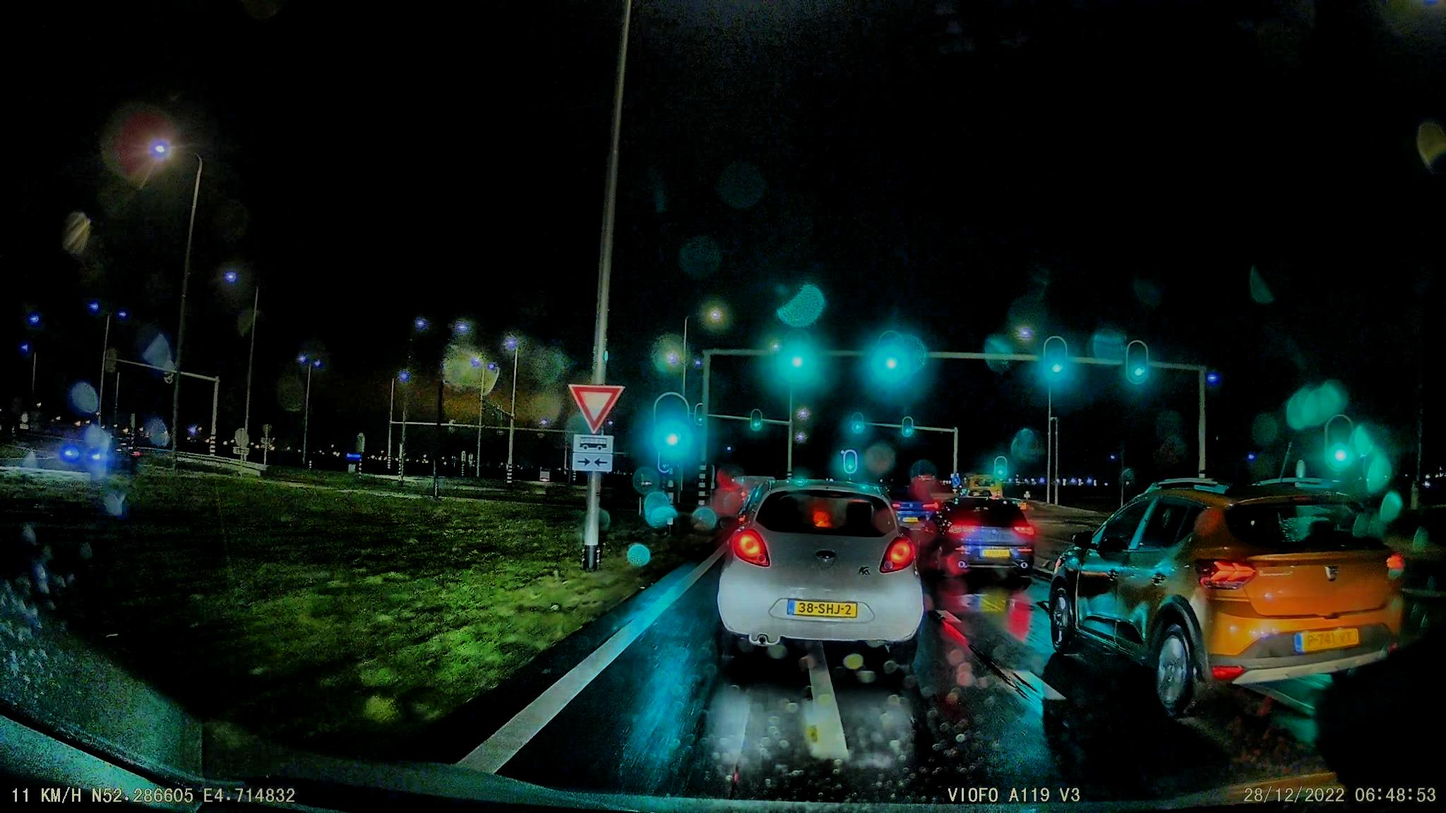Roads: (458, 556, 1329, 806)
